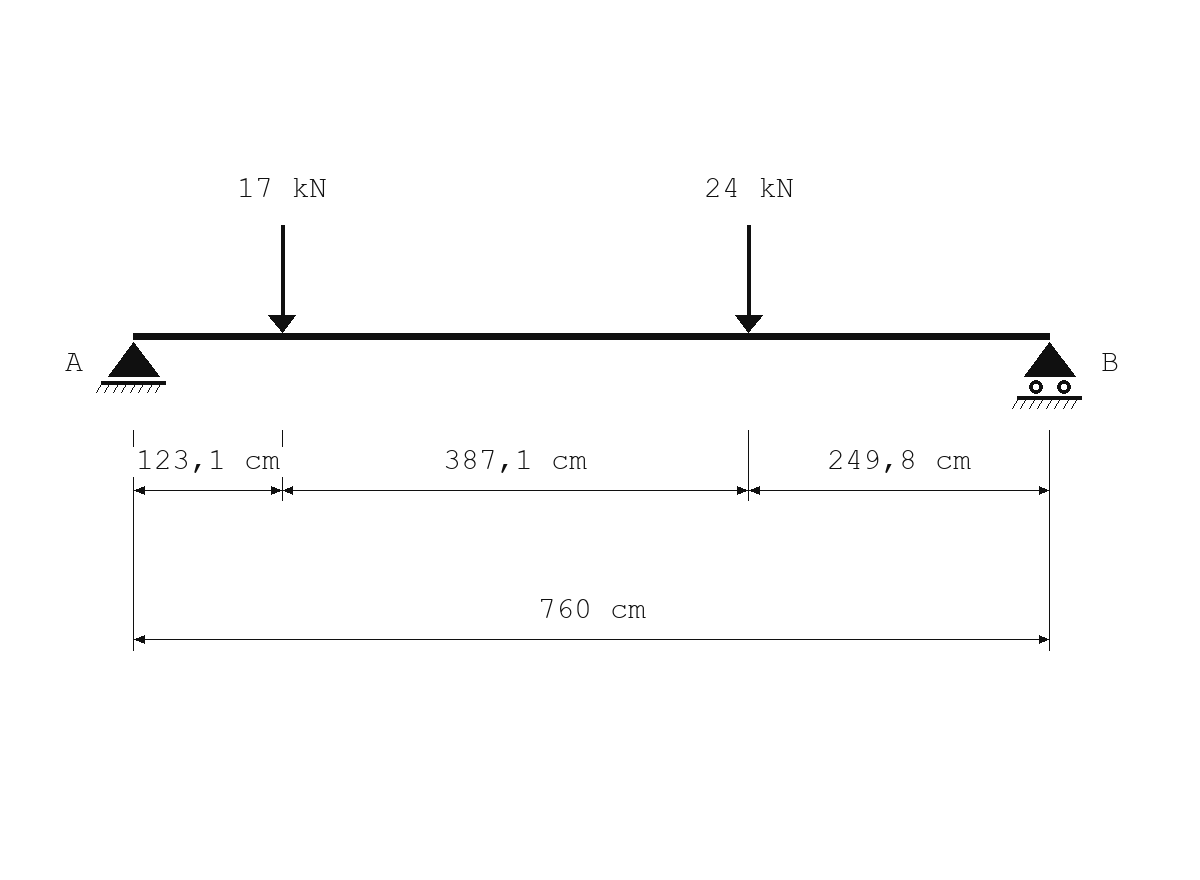pin_support: (96, 342, 166, 393)
point_load: (268, 225, 296, 333), (735, 225, 763, 333)
roller_support: (1012, 342, 1082, 409)
